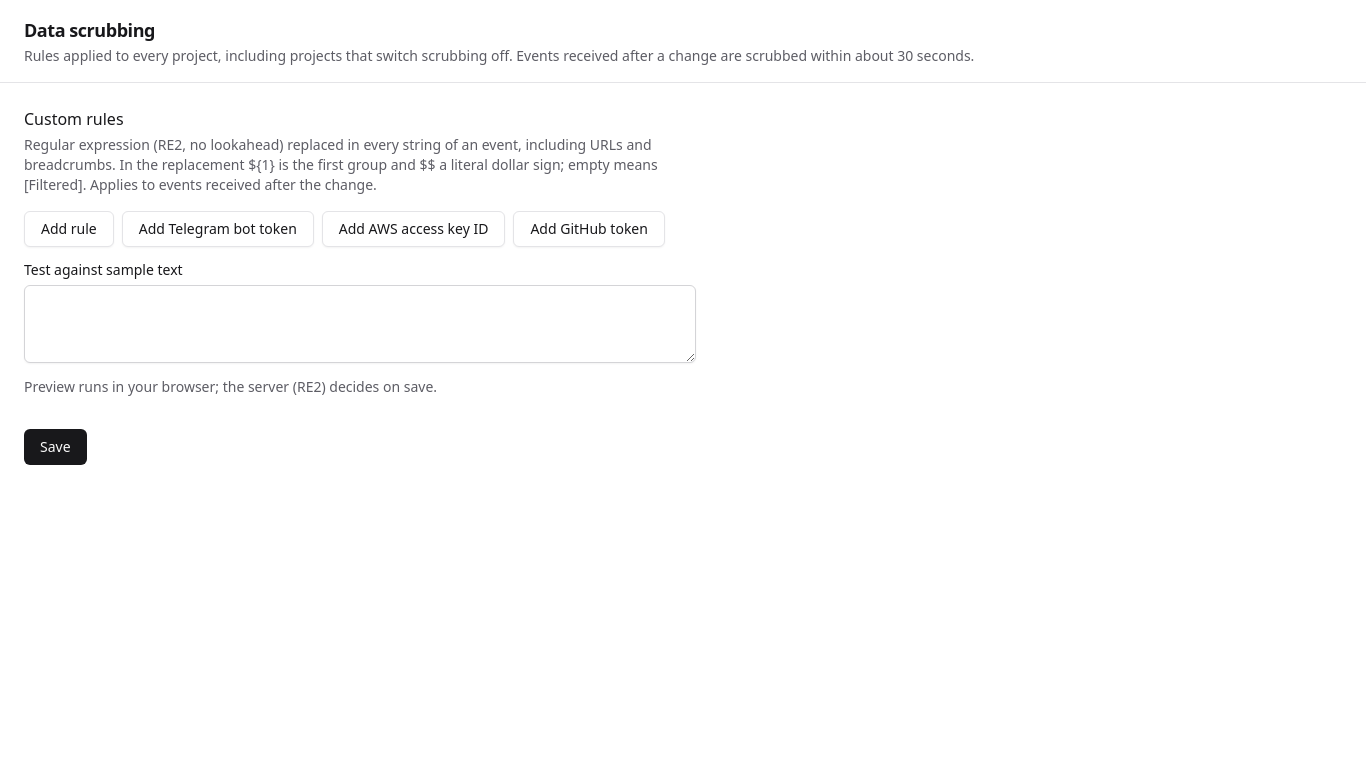
it: GlobalDataScrubbingPage › shows the server's validation message
The image size is (1366, 768).
Click the button "Add AWS access key ID". click: (414, 229)
box: [322,211,505,247]
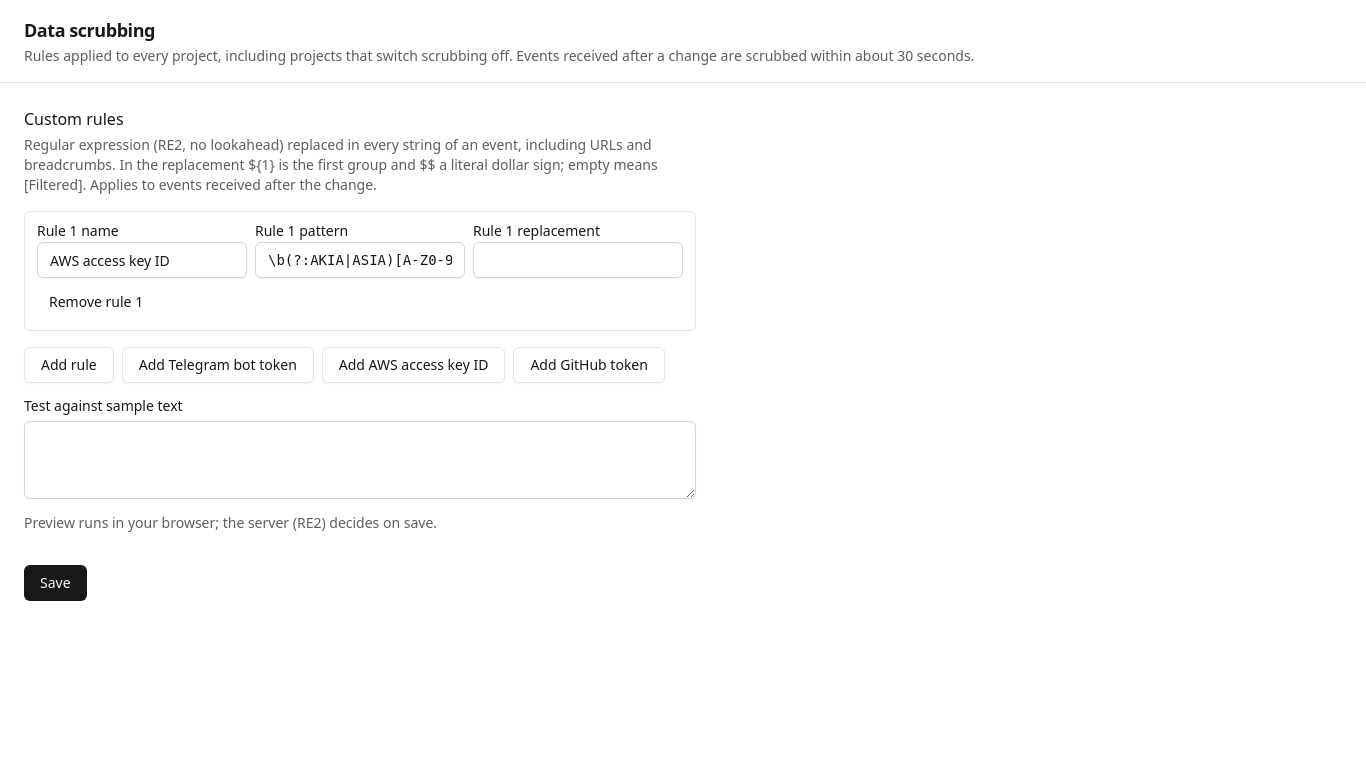
Click the button "Save". click: (55, 583)
box: [24,565,87,601]
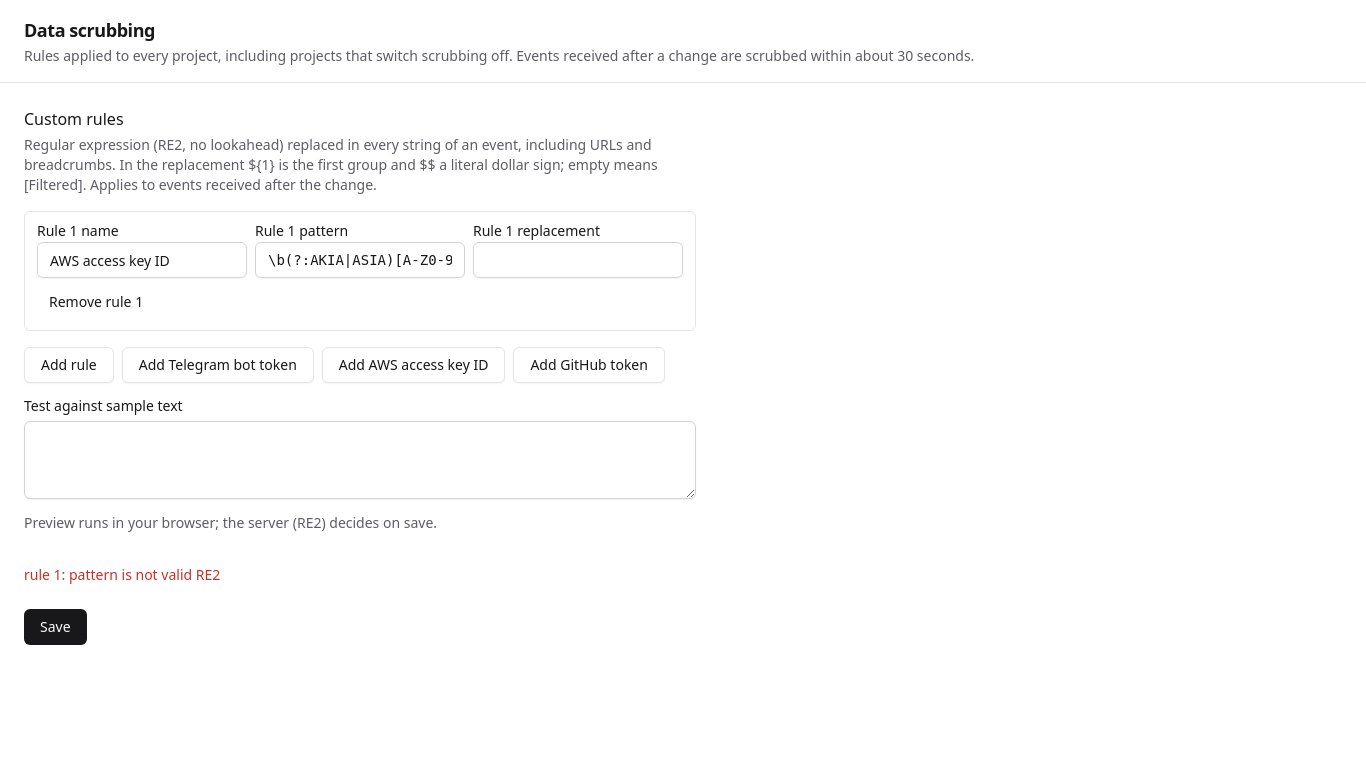
expect the message shows "pattern is not valid RE2": met, box [24,565,220,584]
